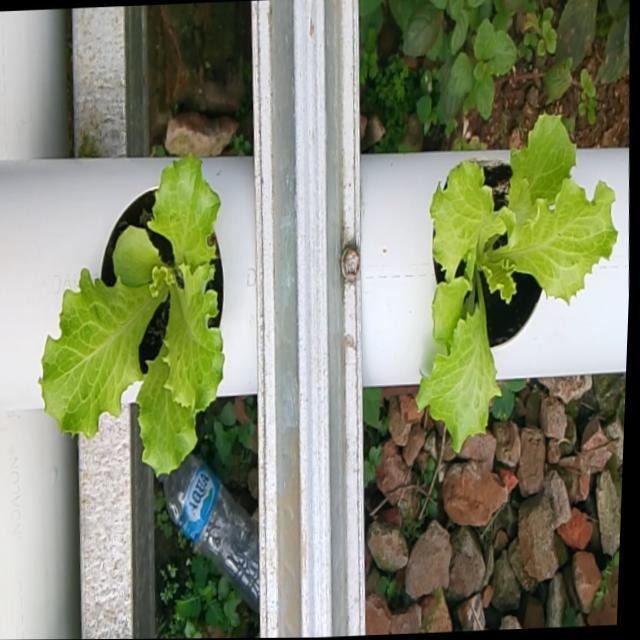Baby: (420, 107, 623, 446), (43, 149, 229, 473)
